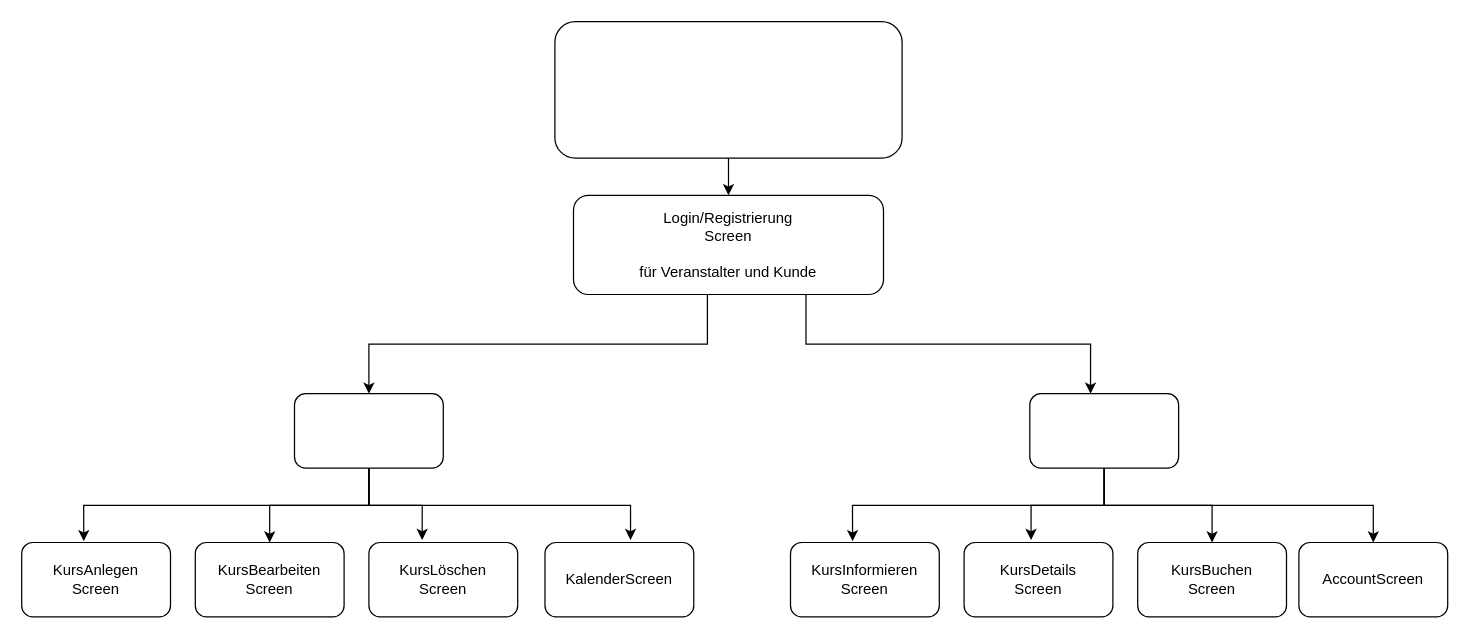
Some shapes in this 1469 by 639 pixel diagram are drawn without their labels. The shapes that lost their labels are listed below. From the top down, each one's box as (x1, y1, x2, y2) in pixels, then its label:
(554, 20, 902, 158): Root Widget Grundkonfiguration der App
(293, 392, 443, 468): Dashboard Veranstalter
(1029, 392, 1179, 468): Dashboard Kunde
